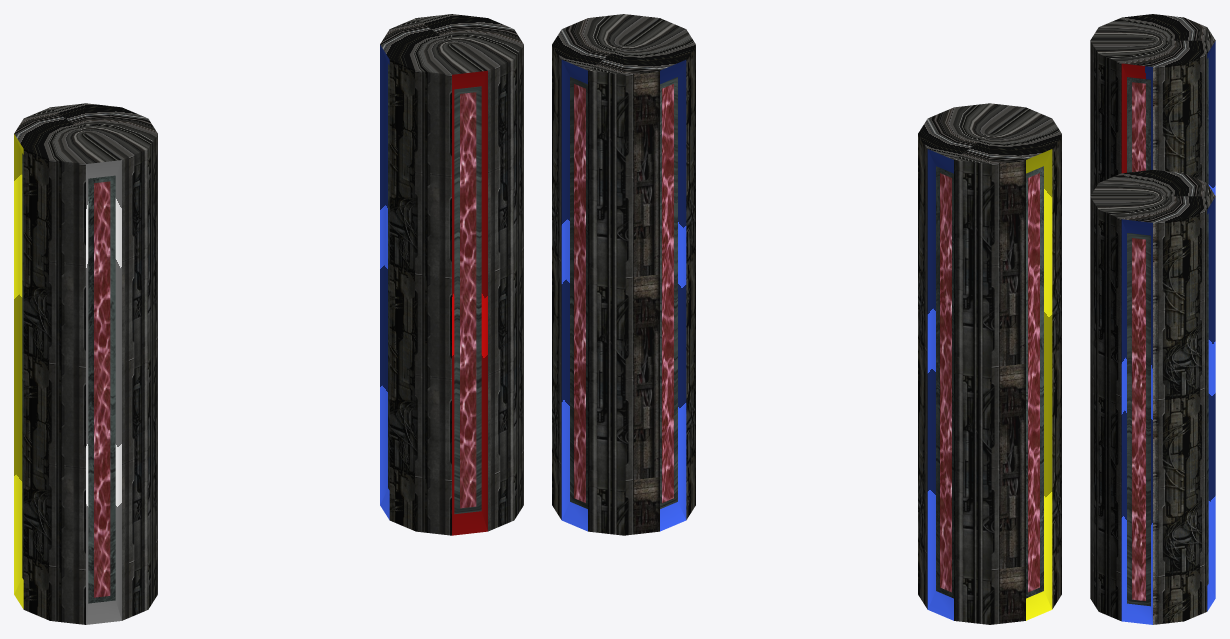
The model's file is prop_glow_cyls_duo.gltf.
3 views of the same model, side by side, from view 1: azimuth 30°, elevation 25°; view 2: azimuth 150°, elevation 25°; view 3: azimuth 270°, elevation 25° (orthographic). The views are drawn at different scales.
Visible parts, largest first — view 1: a_glowing_cylinder, a_glowing_cylinder1; view 2: a_glowing_cylinder, a_glowing_cylinder1; view 3: a_glowing_cylinder1, a_glowing_cylinder.
Part boxes in pixels (box(x1,y1,x2,y2)): a_glowing_cylinder: box(14, 103, 157, 624); a_glowing_cylinder1: box(380, 14, 523, 535); a_glowing_cylinder: box(918, 103, 1061, 624); a_glowing_cylinder1: box(552, 14, 695, 535); a_glowing_cylinder1: box(1090, 170, 1215, 624); a_glowing_cylinder: box(1090, 14, 1215, 195).
Bounding box in the file's own units: 19.68 × 17.67 × 5.
Materials: 4 (4 with a texture image).
